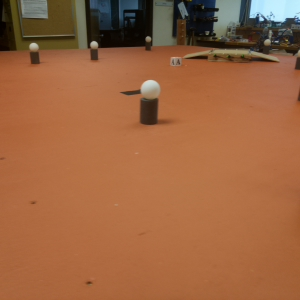blockA: (171, 57, 183, 70)
corner: (175, 18, 187, 49)
obstacle: (141, 80, 161, 125), (28, 42, 40, 66), (87, 40, 100, 61), (142, 35, 153, 51), (294, 50, 300, 69), (263, 39, 271, 51)
side: (211, 52, 250, 63)
slope: (184, 49, 207, 60), (253, 53, 279, 62)
start: (120, 87, 140, 103)
